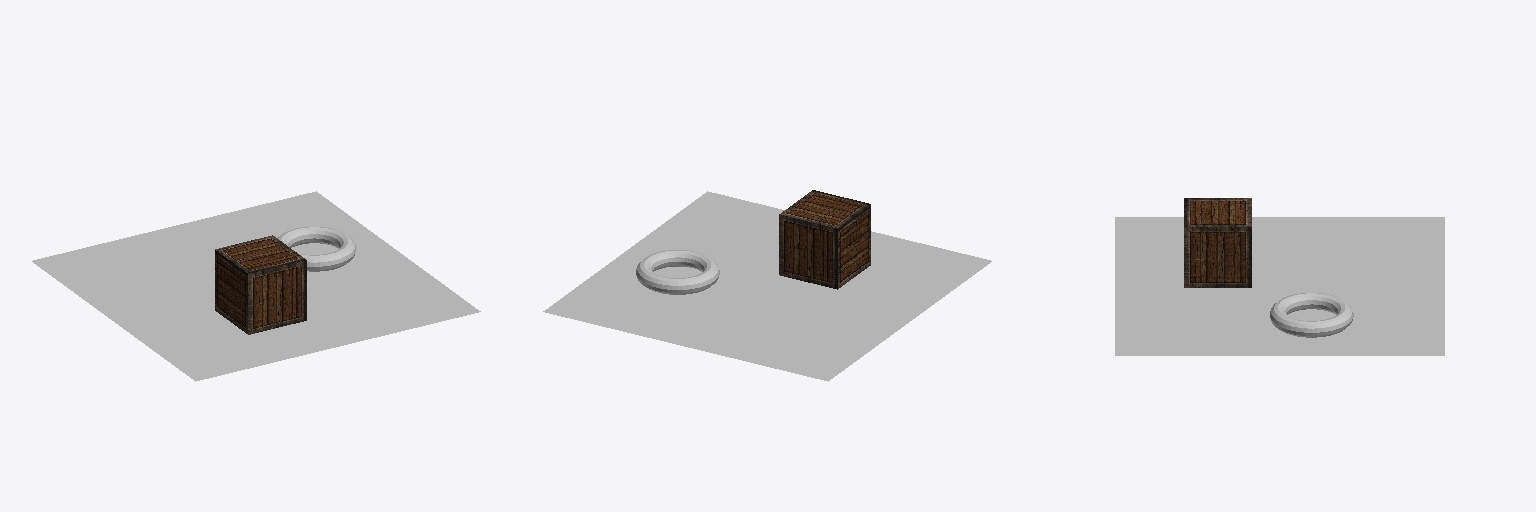
The picture shows the model from 3 angles: view 1: azimuth 30°, elevation 25°; view 2: azimuth 150°, elevation 25°; view 3: azimuth 270°, elevation 25°; orthographic projection.
Parts seen in each view (by area): view 1: Plane, Cube_Cube.001, Torus; view 2: Plane, Cube_Cube.001, Torus; view 3: Plane, Cube_Cube.001, Torus.
Boxes of the visible parts, x1,y1,x2,y2 form: Plane: [32, 191, 480, 381]; Cube_Cube.001: [215, 235, 306, 334]; Torus: [277, 227, 355, 271]; Plane: [543, 191, 991, 381]; Cube_Cube.001: [779, 190, 870, 289]; Torus: [636, 250, 719, 294]; Plane: [1115, 217, 1444, 355]; Cube_Cube.001: [1184, 198, 1251, 287]; Torus: [1270, 293, 1353, 337].
Size of the model in its own units: 9.8 by 2 by 9.8.
3 materials, 1 textured.